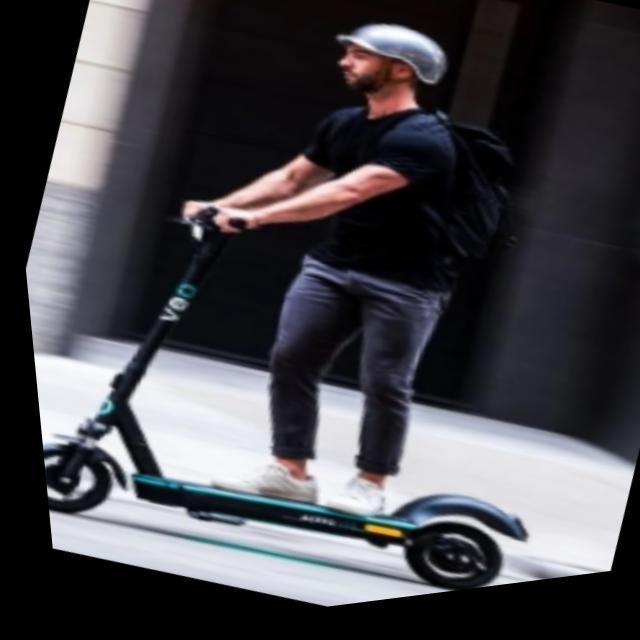Helmet: (333, 19, 450, 87)
